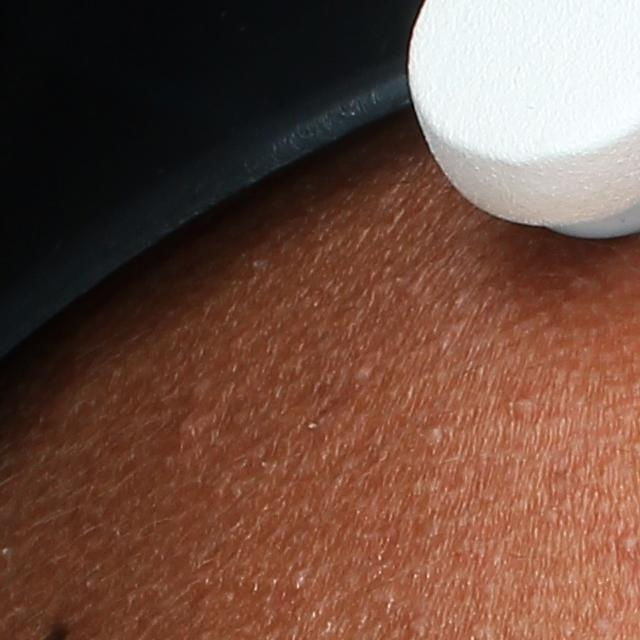comedo: (174, 411, 204, 441), (346, 360, 372, 383), (513, 394, 534, 418), (290, 566, 307, 590)
